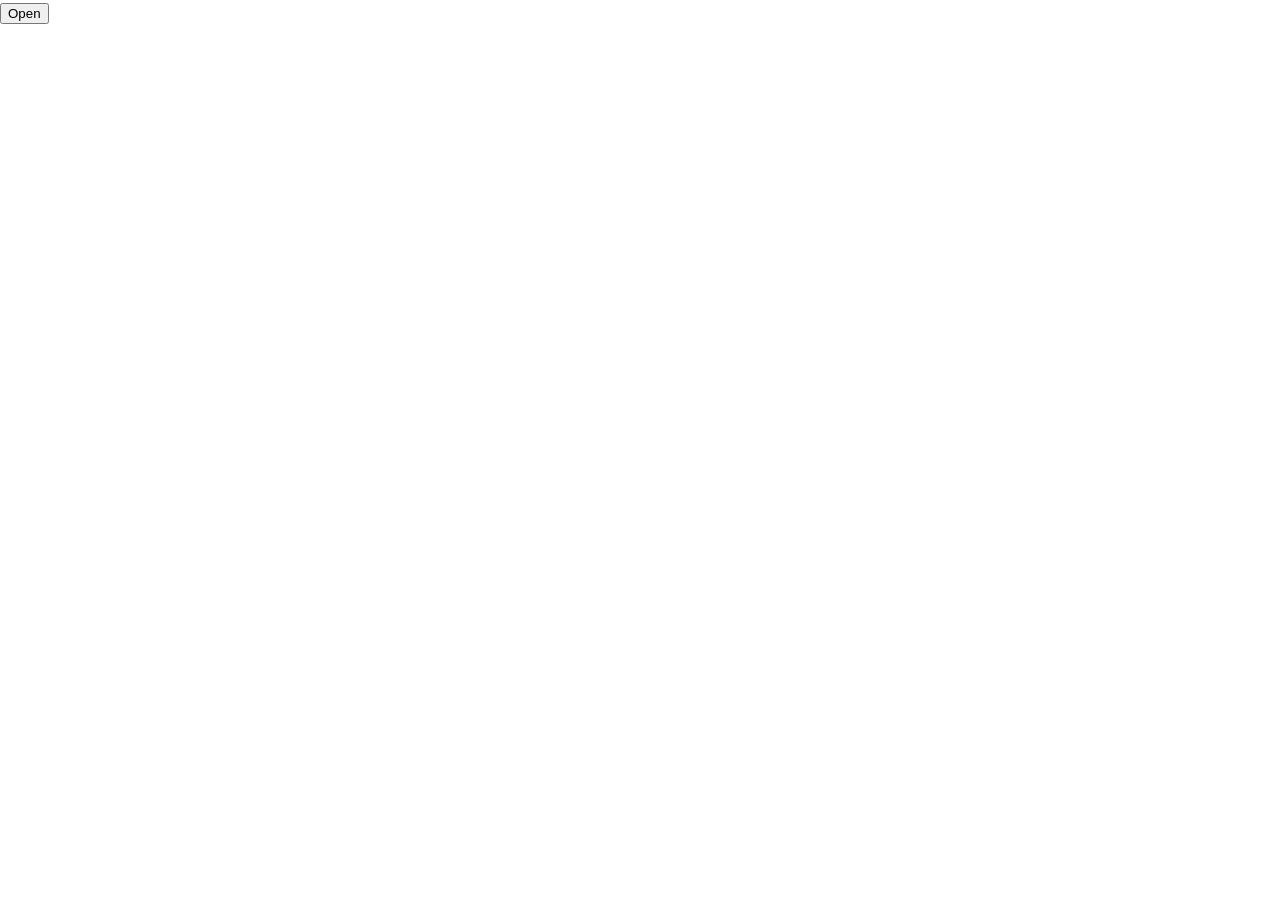
Test case: Dialog › traps focus, closes on Escape and returns focus to the trigger
Click the button "Open": (24, 14) [0,3,49,24]
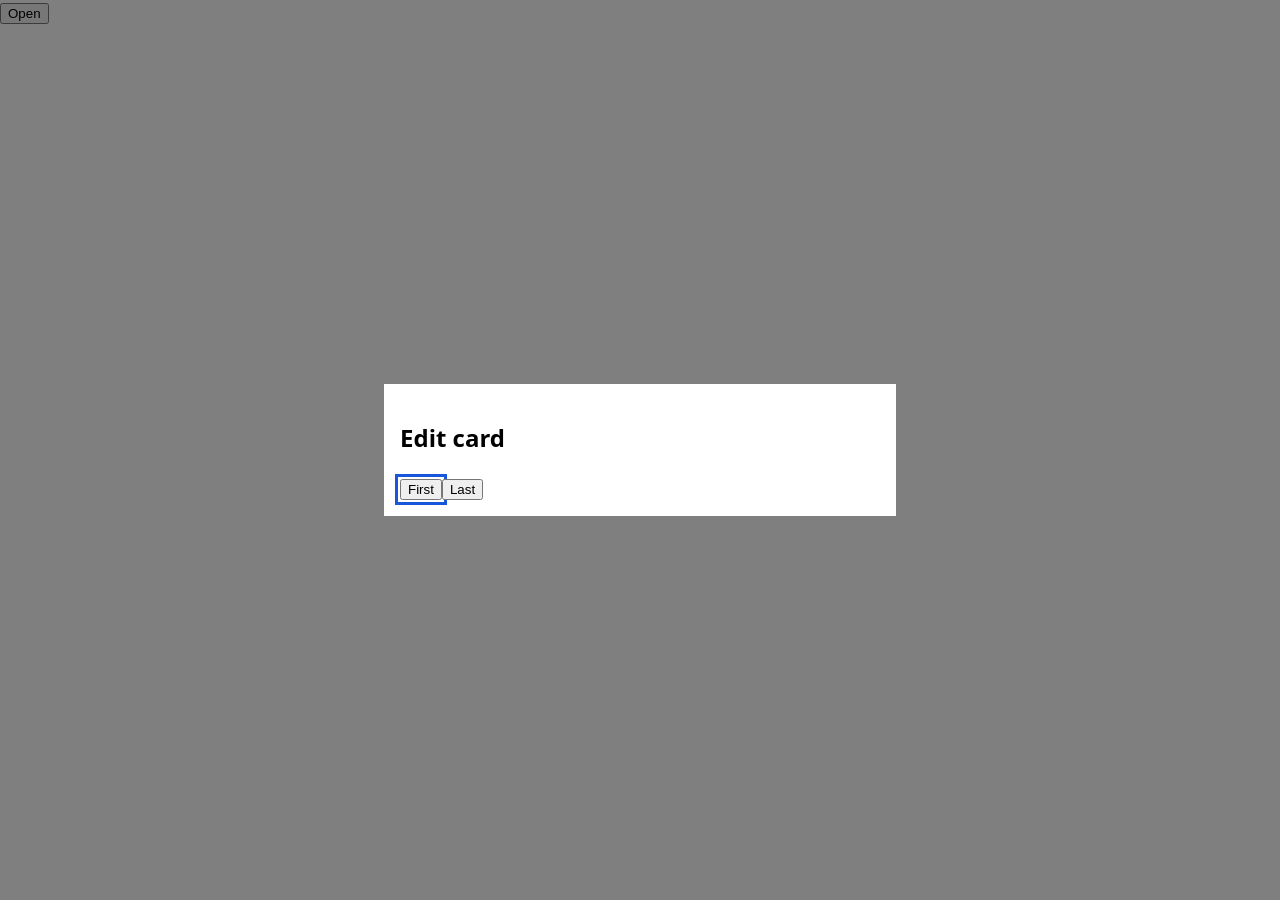
Check: the dialog "Edit card" is shown, box [384,384,896,516]
Press Tab
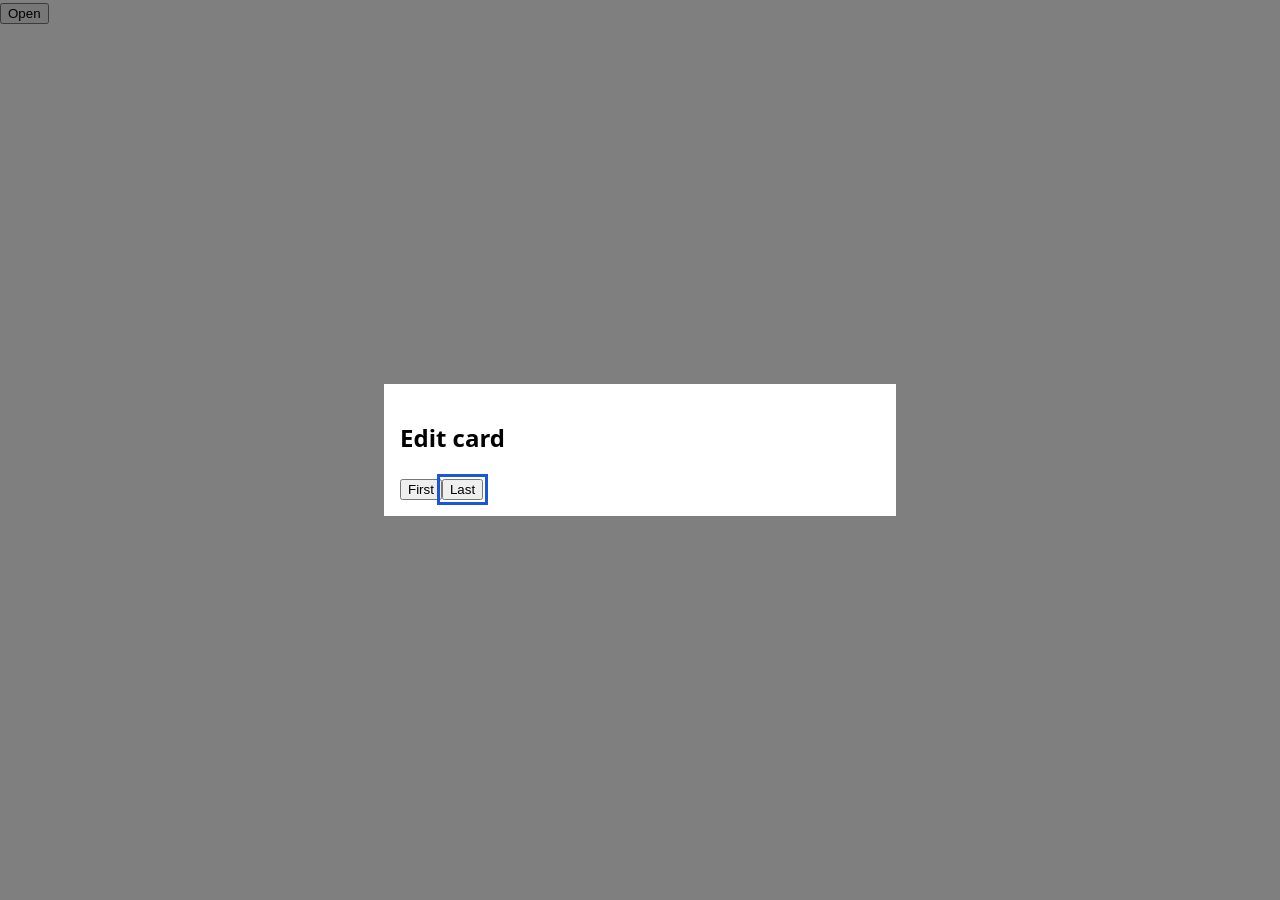
Press Tab
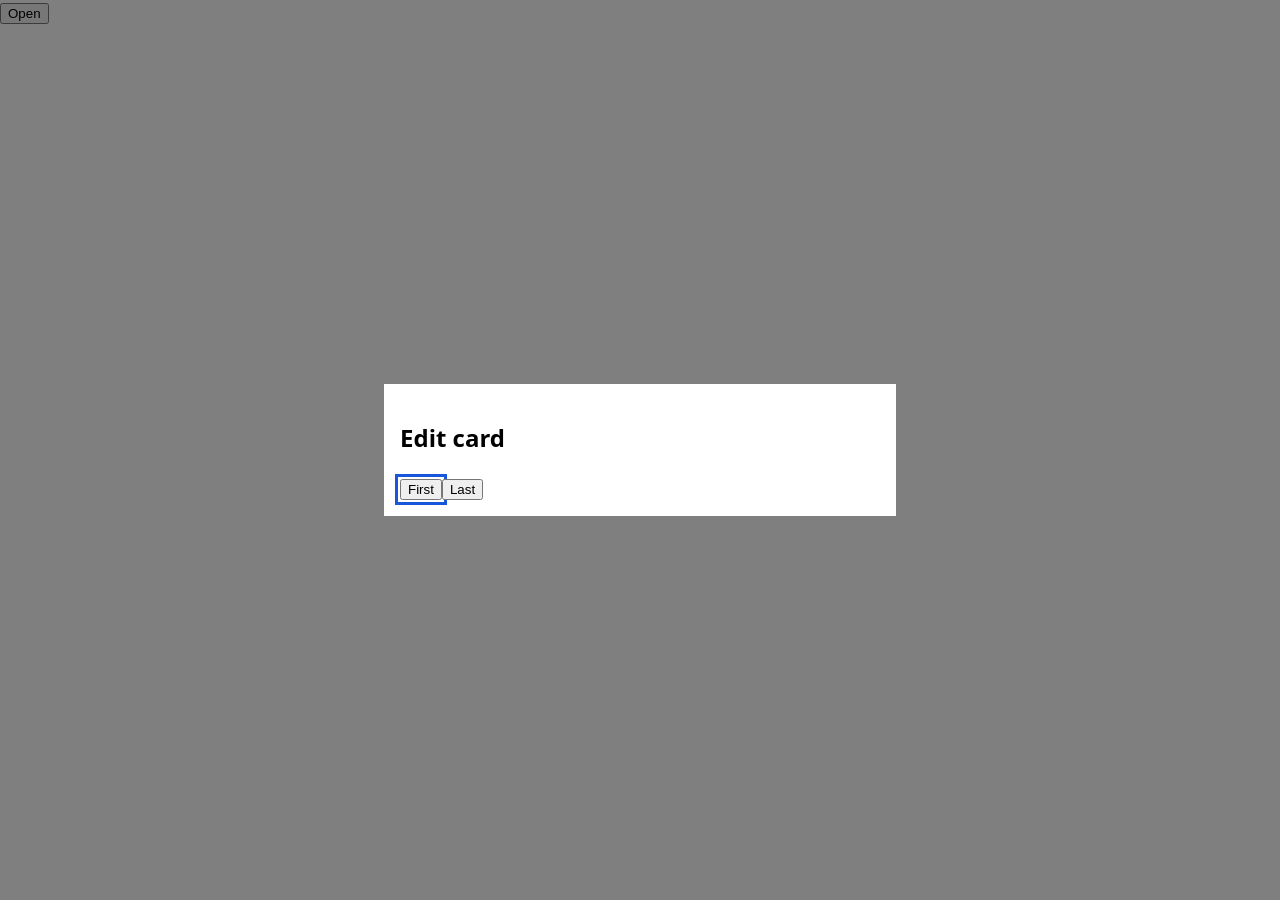
Press Shift+Tab
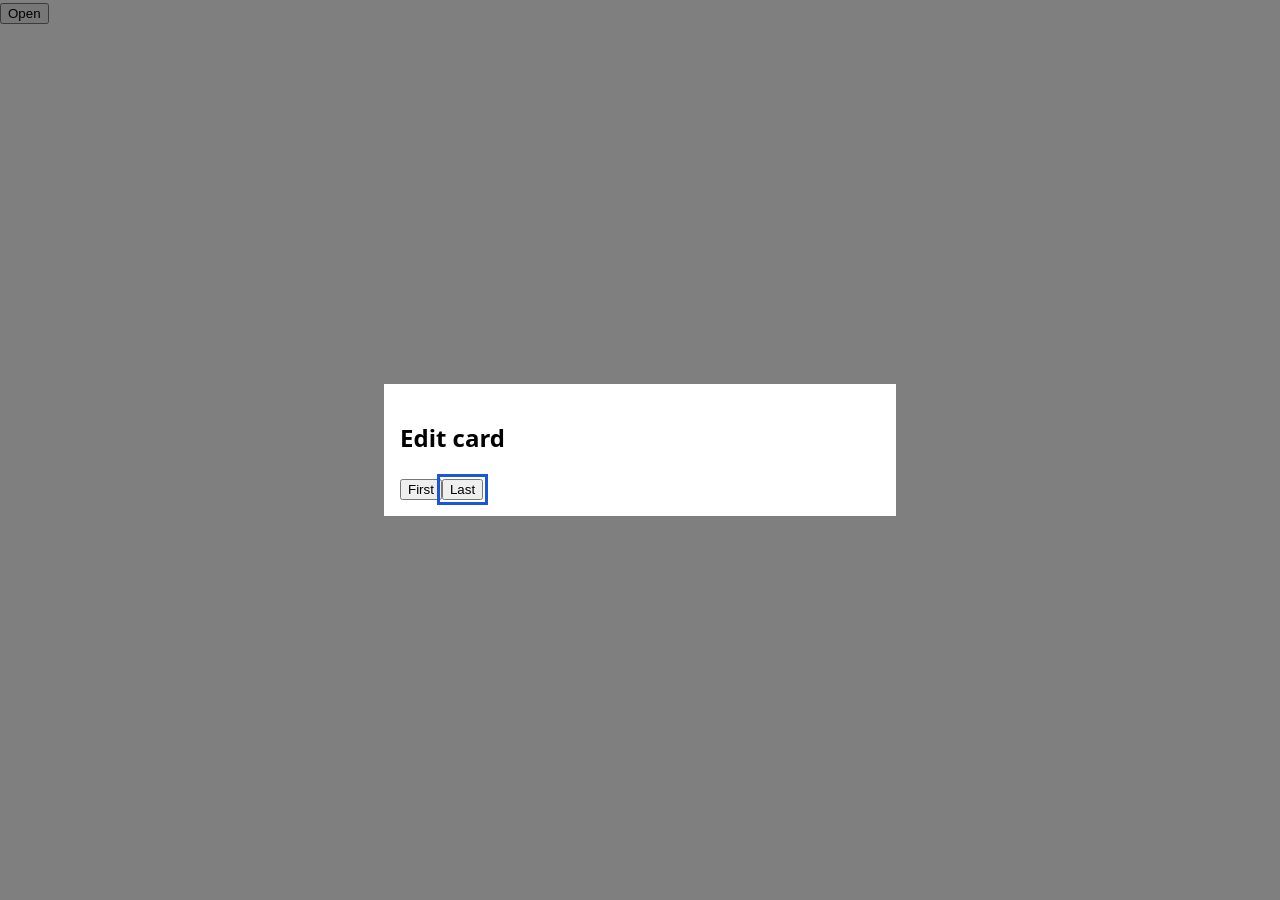
Press Escape
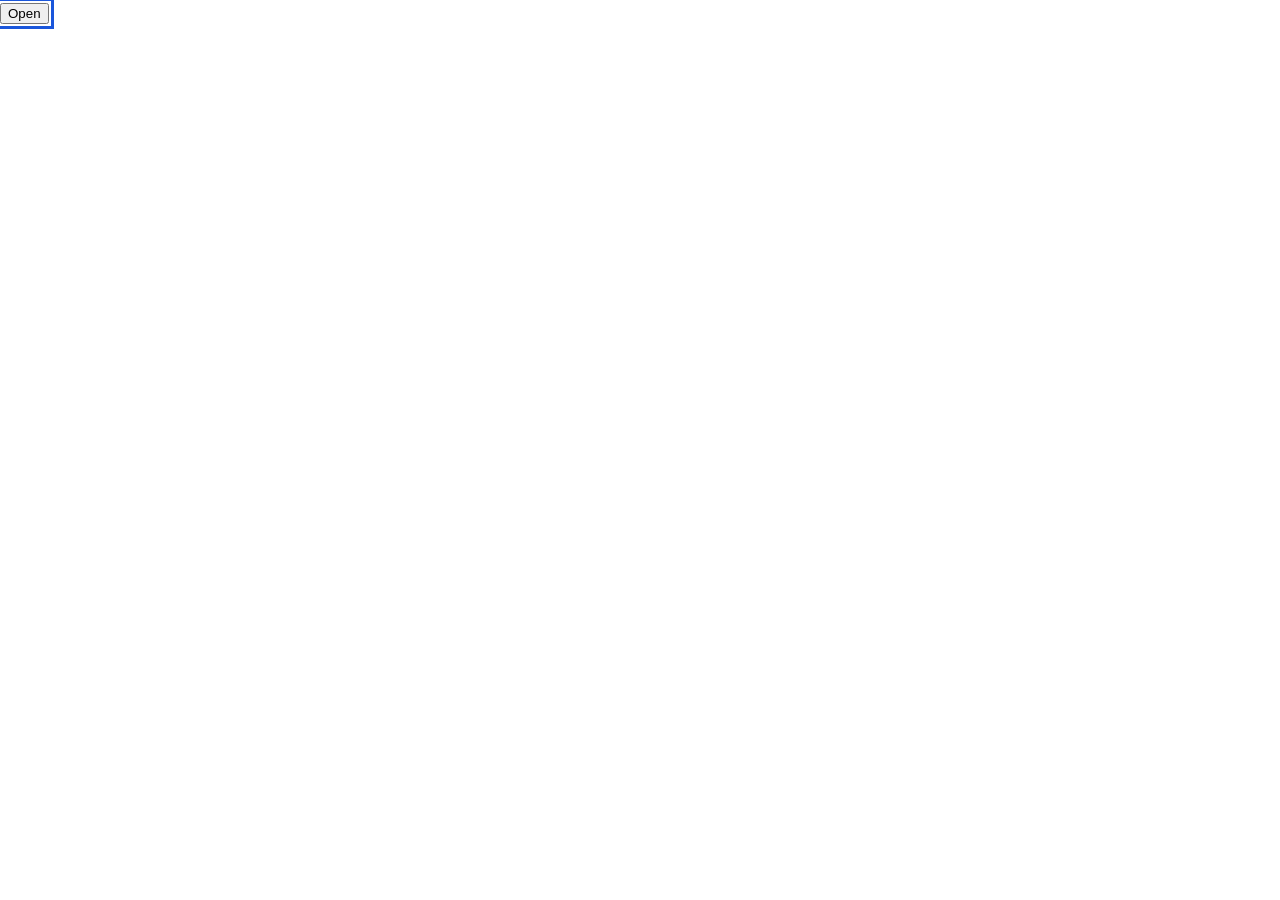
Check: the dialog is gone
